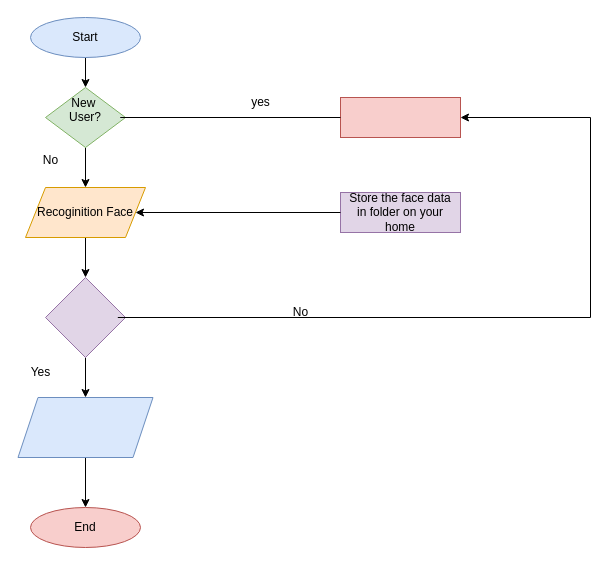
Image size: 616x565. Some labels were removed from this diagram. The centre of each missing label's shape, as x and y in pixels:
Face Recogonized: (85,317)
Give your Photograph: (400,117)
Storing In CSS file with Registration Number &Date .Time of Entry: (85,427)
